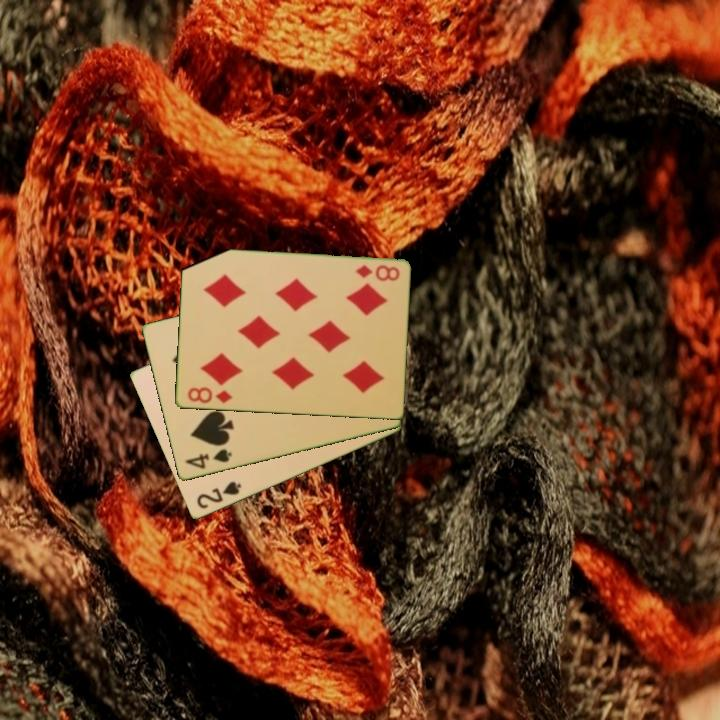2s: (193, 478, 244, 512)
4s: (181, 446, 235, 472)
8d: (184, 384, 235, 406), (352, 262, 402, 284)
